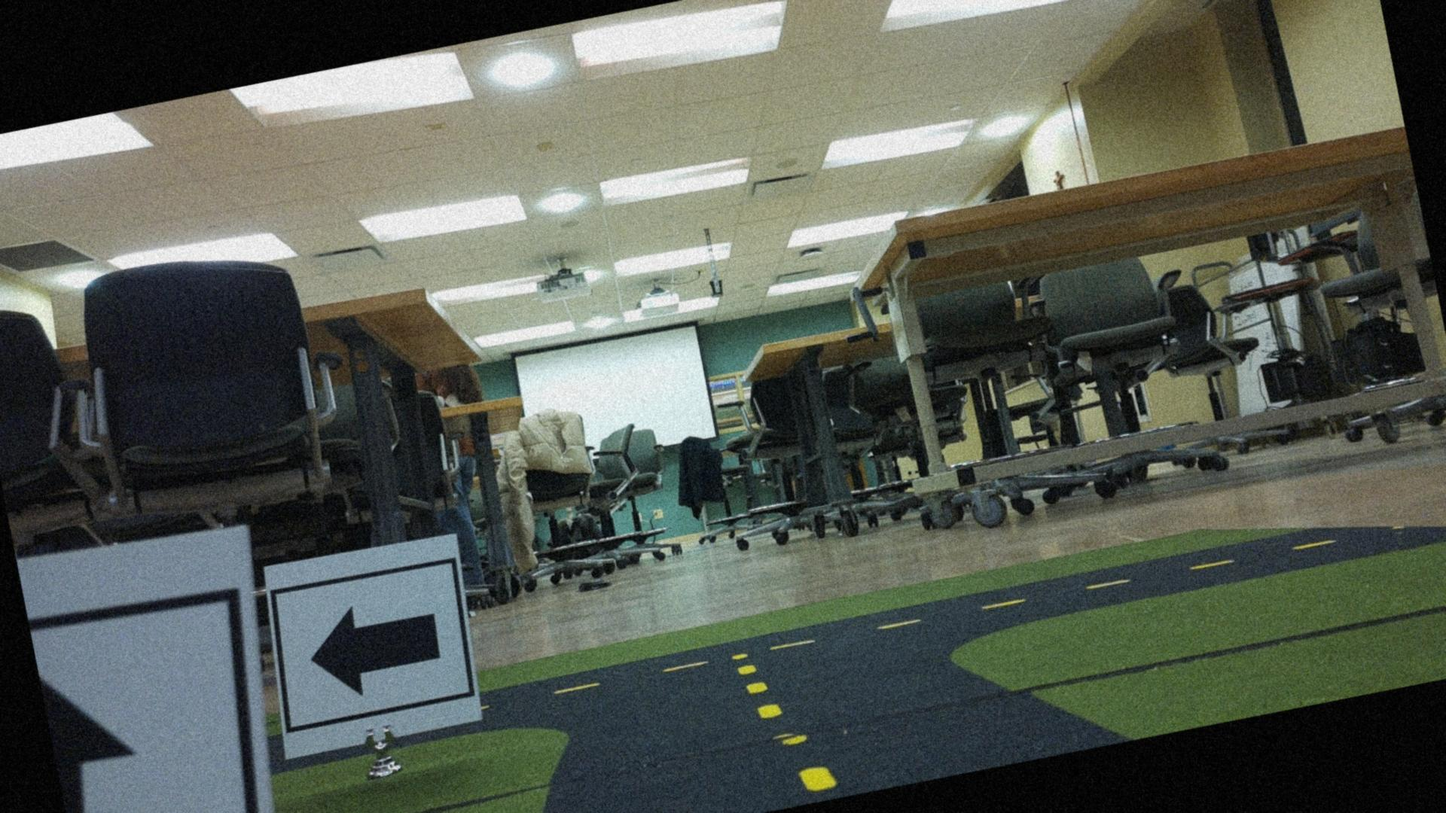turnleft: (258, 535, 481, 752)
yellowline: (739, 650, 837, 802)
